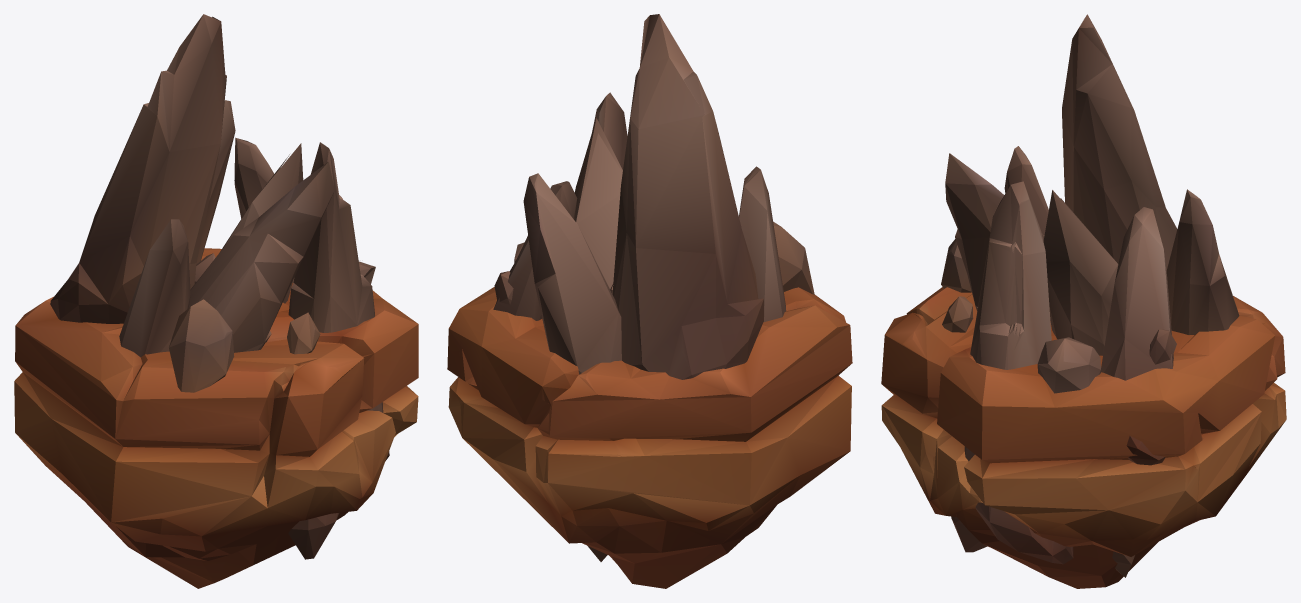
Rendered from Crater.fbx.
3 renders of one model, left to right at view 1: azimuth 30°, elevation 25°; view 2: azimuth 150°, elevation 25°; view 3: azimuth 270°, elevation 25°, orthographic.
Visible parts, largest first — view 1: Merged_Blocked; view 2: Merged_Blocked; view 3: Merged_Blocked.
Boxes of the visible parts, left/top/right/bottom form: Merged_Blocked: left=14, top=14, right=418, bottom=588; Merged_Blocked: left=447, top=14, right=852, bottom=588; Merged_Blocked: left=881, top=14, right=1286, bottom=588.
Size of the model in its own units: 1.76 by 3.12 by 1.99.
